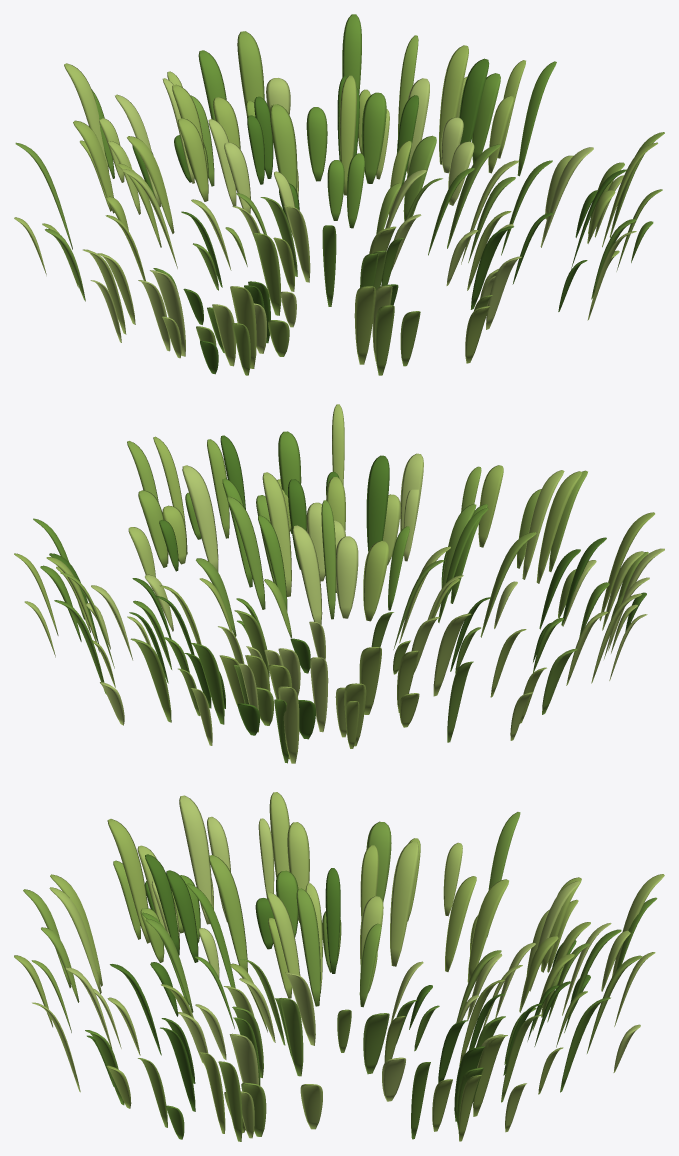
3 views of the same model, one above another, from view 1: azimuth 30°, elevation 25°; view 2: azimuth 150°, elevation 25°; view 3: azimuth 270°, elevation 25° (orthographic). The views are drawn at different scales.
Parts seen in each view (by area): view 1: 细叶草簇; view 2: 细叶草簇; view 3: 细叶草簇.
Boxes of the visible parts, <box> form: 细叶草簇: <box>14,14,664,375</box>; 细叶草簇: <box>14,404,664,763</box>; 细叶草簇: <box>14,792,664,1141</box>.
Bounding box in the file's own units: 0.896 × 0.1673 × 0.9021.
